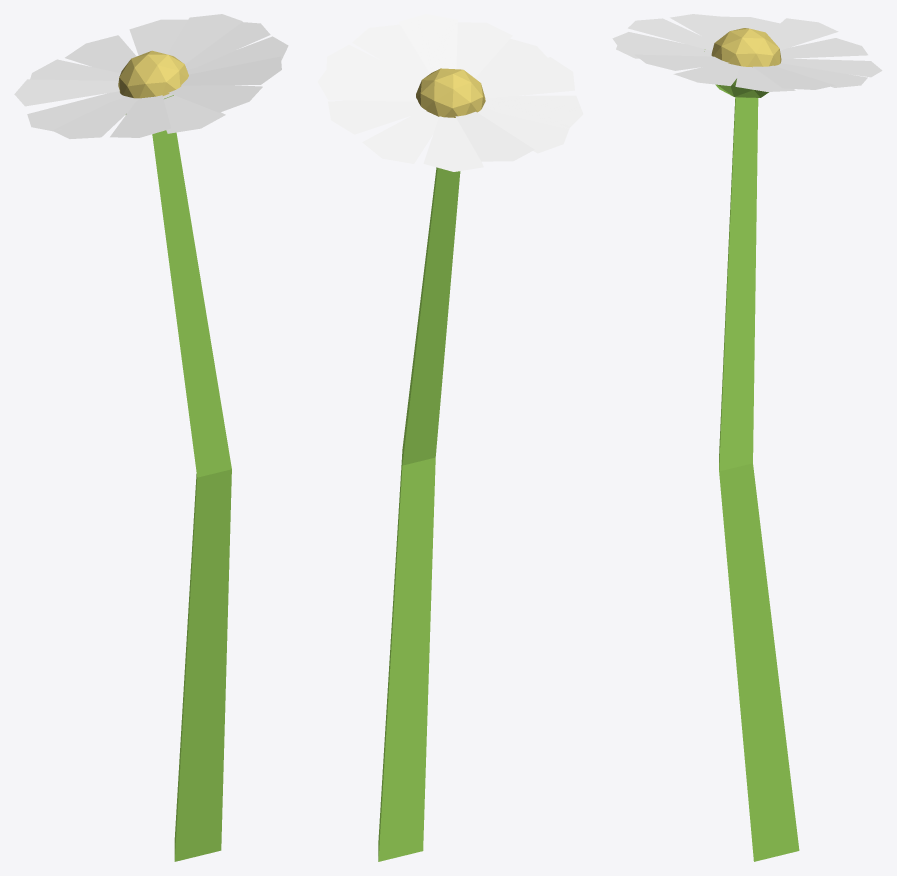
File: flower 1.fbx
3 views of the same model, side by side, from view 1: azimuth 30°, elevation 25°; view 2: azimuth 150°, elevation 25°; view 3: azimuth 270°, elevation 25° (orthographic). The views are drawn at different scales.
Visible parts, largest first — view 1: Cylinder; view 2: Cylinder; view 3: Cylinder.
Part boxes in pixels (<box>): Cylinder: <box>14,14,288,861</box>; Cylinder: <box>317,14,583,861</box>; Cylinder: <box>612,14,882,861</box>.
Bounding box in the file's own units: 8.85 × 29.12 × 8.9.
